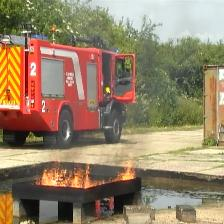fire: (36, 163, 107, 190), (107, 160, 136, 183)
